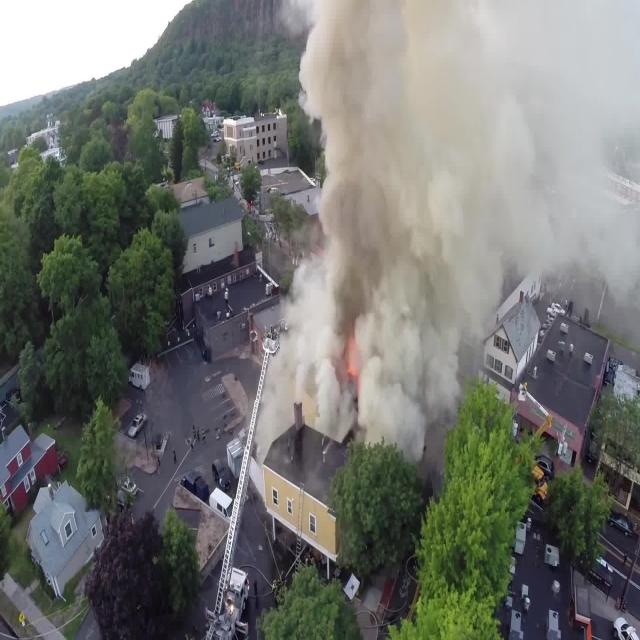smoke: (322, 6, 636, 272), (304, 282, 458, 418)
